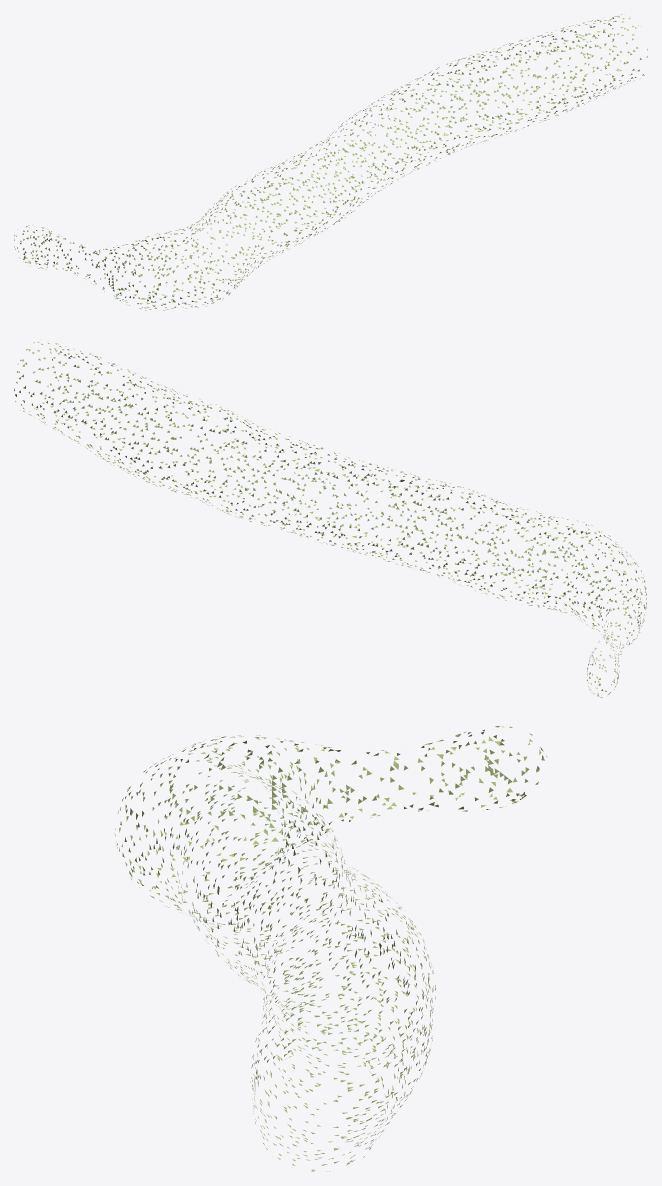
File: morph_011.glb
The picture shows the model from 3 angles, top to bottom: view 1: azimuth 30°, elevation 25°; view 2: azimuth 150°, elevation 25°; view 3: azimuth 270°, elevation 25°; orthographic projection. The views are drawn at different scales.
Bounding box in the file's own units: 156 × 40.33 × 51.35.
